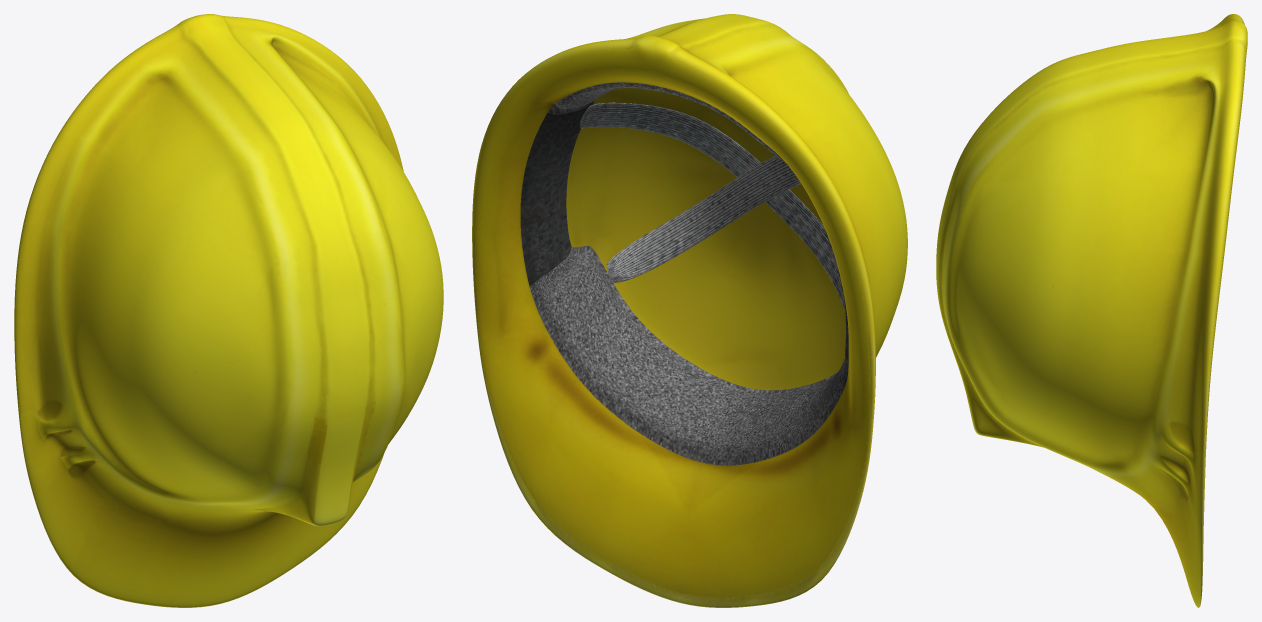
Rendered from 10134_ConHelmet_v2_L3.obj.
The picture shows the model from 3 angles, left to right: view 1: azimuth 30°, elevation 25°; view 2: azimuth 150°, elevation 25°; view 3: azimuth 270°, elevation 25°; orthographic projection. The views are drawn at different scales.
Visible parts, largest first — view 1: 10134_ConHelmet_v02; view 2: 10134_ConHelmet_v02; view 3: 10134_ConHelmet_v02.
Boxes of the visible parts, left/top/right/bottom form: 10134_ConHelmet_v02: left=14, top=14, right=443, bottom=607; 10134_ConHelmet_v02: left=472, top=14, right=907, bottom=607; 10134_ConHelmet_v02: left=936, top=14, right=1247, bottom=607.
Size of the model in its own units: 24.91 by 34.3 by 17.24.
Materials: 1 (1 with a texture image).
